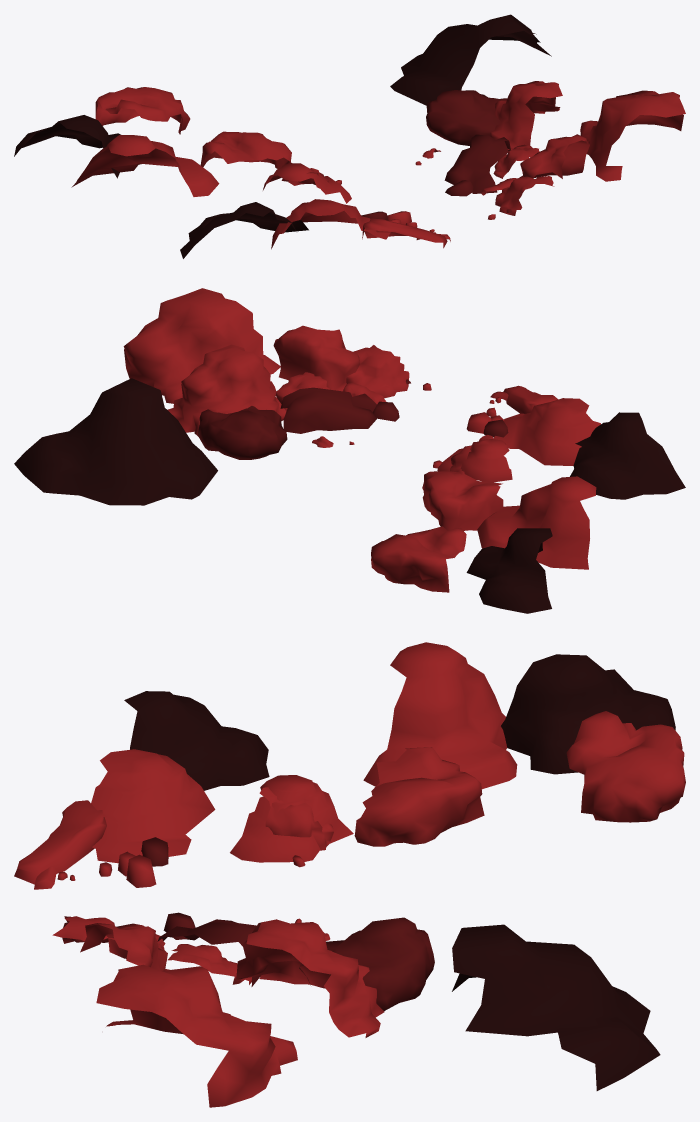
File: GoblinMap02_RedRock.fbx
3 views of the same model, one above another, from view 1: azimuth 30°, elevation 25°; view 2: azimuth 150°, elevation 25°; view 3: azimuth 270°, elevation 25° (orthographic). The views are drawn at different scales.
Visible parts, largest first — view 1: RedRock, RedRock_dark_1, RedRock_dark; view 2: RedRock, RedRock_dark_1, RedRock_dark; view 3: RedRock, RedRock_dark_1, RedRock_dark.
Boxes of the visible parts, x1=… form: RedRock: x1=71, y1=81, x2=685, y2=249; RedRock_dark_1: x1=14, y1=14, x2=551, y2=258; RedRock_dark: x1=361, y1=90, x2=511, y2=220; RedRock: x1=123, y1=288, x2=600, y2=592; RedRock_dark_1: x1=14, y1=378, x2=685, y2=613; RedRock_dark: x1=197, y1=379, x2=508, y2=459; RedRock: x1=14, y1=642, x2=685, y2=1107; RedRock_dark_1: x1=124, y1=654, x2=675, y2=1090; RedRock_dark: x1=72, y1=837, x2=434, y2=1010.
Bounding box in the file's own units: 3001 × 370 × 2101.
